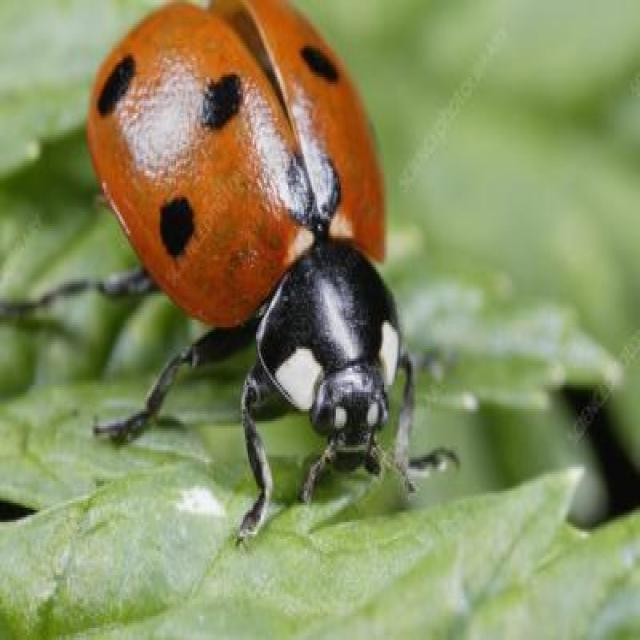antennae: (296, 424, 418, 510)
body: (84, 3, 402, 459)
insect: (9, 2, 465, 546)
legs: (87, 314, 286, 543), (397, 348, 455, 498)
mouthpart: (316, 373, 385, 484)
wings: (86, 0, 400, 315)
